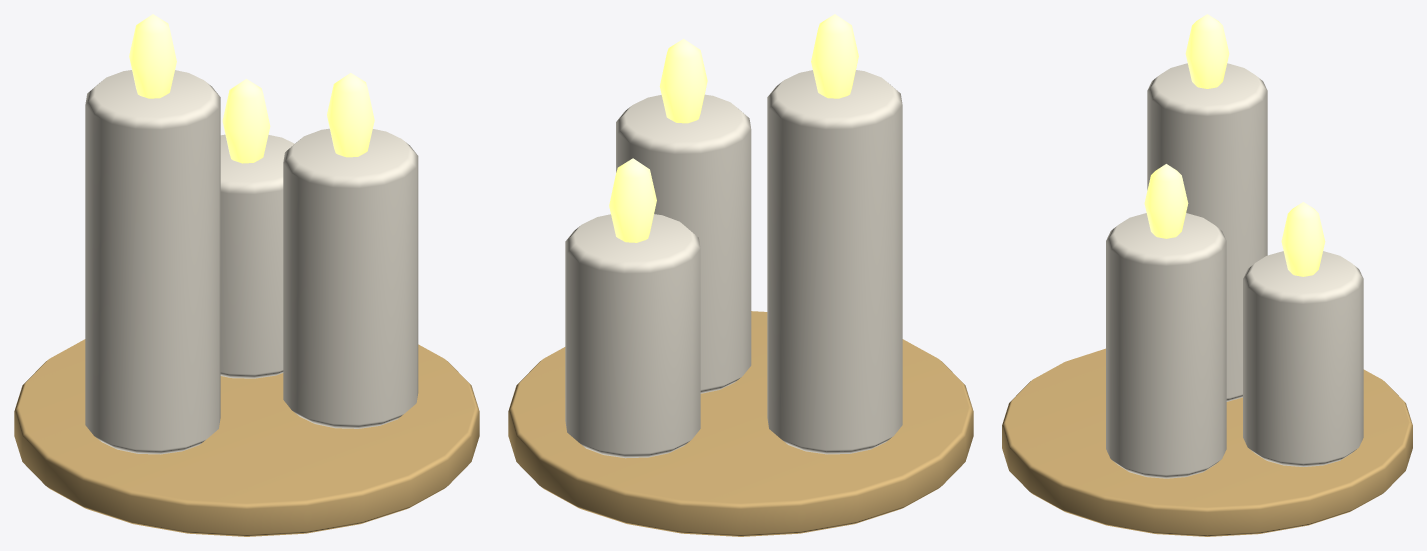
Rendered from Candle_Trio.fbx.
3 views of the same model, side by side, from view 1: azimuth 30°, elevation 25°; view 2: azimuth 150°, elevation 25°; view 3: azimuth 270°, elevation 25° (orthographic). The views are drawn at different scales.
Visible parts, largest first — view 1: Candle_Trio_Mesh; view 2: Candle_Trio_Mesh; view 3: Candle_Trio_Mesh.
Boxes of the visible parts, <box> form: Candle_Trio_Mesh: <box>14,14,479,536</box>; Candle_Trio_Mesh: <box>508,14,973,536</box>; Candle_Trio_Mesh: <box>1002,14,1412,536</box>.
Size of the model in its own units: 0.15 by 0.16 by 0.15.
